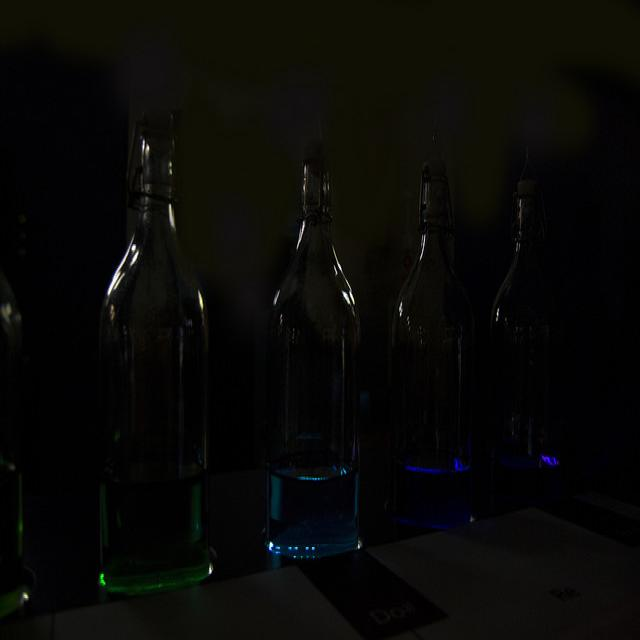Bottle: (122, 106, 243, 568), (270, 139, 364, 568), (0, 241, 89, 608), (404, 155, 491, 484), (501, 172, 567, 506)
